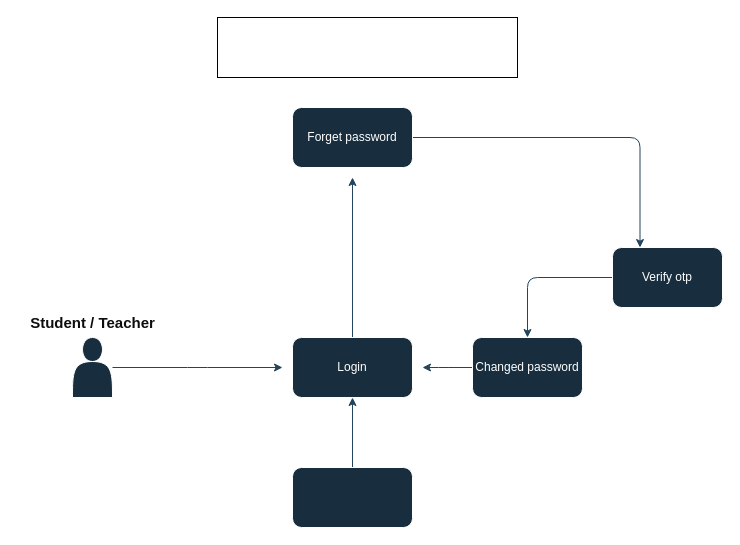
Some shapes in this 740 by 545 pixel diagram are drawn without their labels. The centre of each missing label's shape, as x and y in pixels:
"Dashboard" belongs at point 352,497.
"Module # 1 Authtication" belongs at point 367,47.
